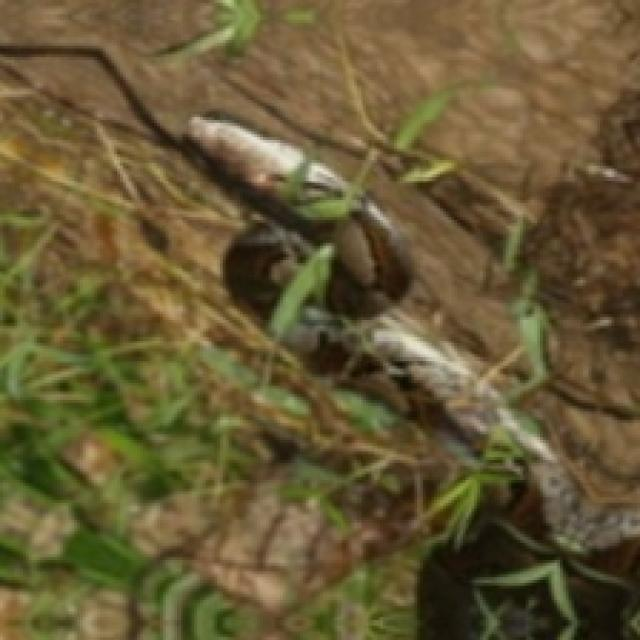reticulated python: (191, 118, 640, 639)
